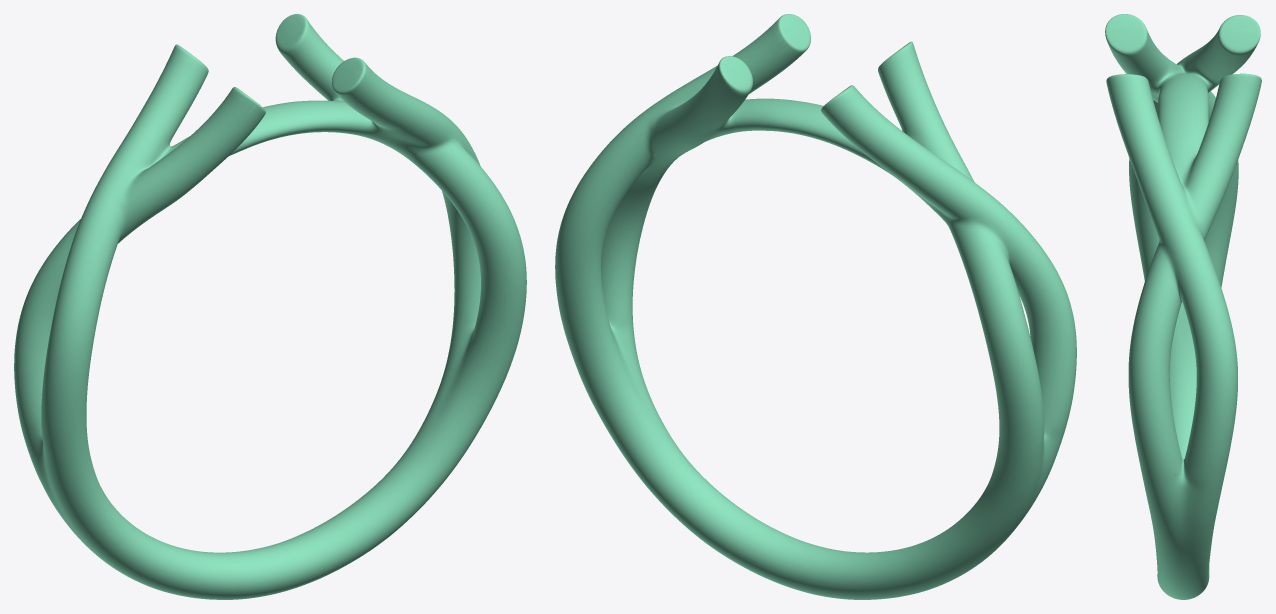
The picture shows the model from 3 angles, left to right: view 1: azimuth 30°, elevation 25°; view 2: azimuth 150°, elevation 25°; view 3: azimuth 270°, elevation 25°; orthographic projection.
Visible parts, largest first — view 1: Metal02; view 2: Metal02; view 3: Metal02.
Part boxes in pixels (<box>): Metal02: <box>14,14,526,599</box>; Metal02: <box>555,14,1076,599</box>; Metal02: <box>1105,14,1261,599</box>.
Bounding box in the file's own units: 21.09 × 22.5 × 6.02.
